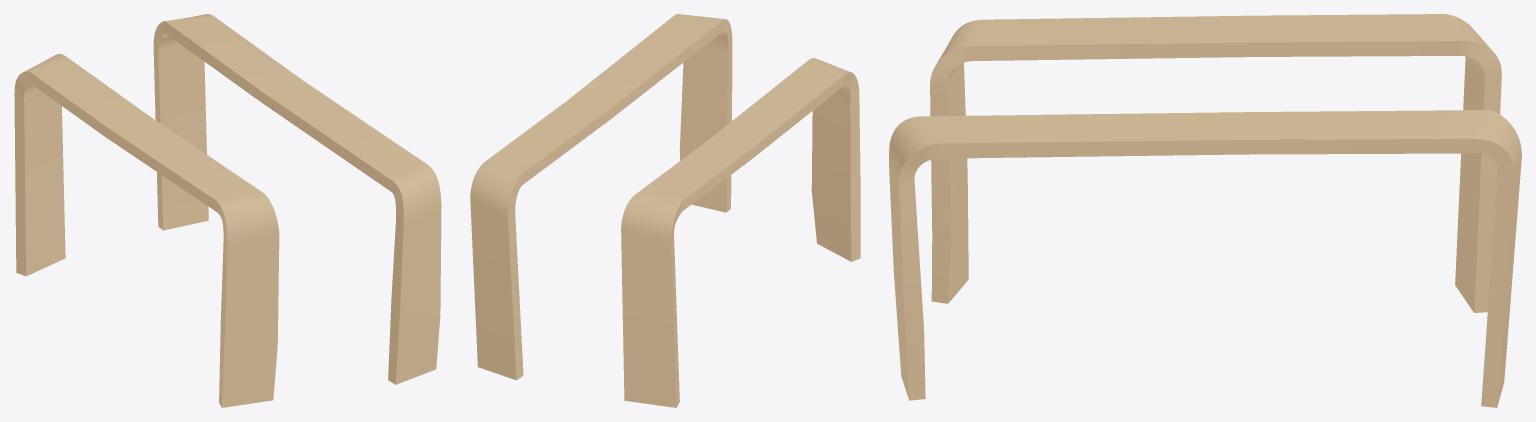
File: ROADS.fbx
The picture shows the model from 3 angles, left to right: view 1: azimuth 30°, elevation 25°; view 2: azimuth 150°, elevation 25°; view 3: azimuth 270°, elevation 25°; orthographic projection. The views are drawn at different scales.
Visible parts, largest first — view 1: Sweep_4, Sweep; view 2: Sweep_4, Sweep; view 3: Sweep, Sweep_4.
Part boxes in pixels (x1,y1,x2,y2): Sweep_4: (14,53,279,407); Sweep: (153,14,441,384); Sweep_4: (621,58,860,407); Sweep: (470,14,732,380); Sweep: (889,110,1521,407); Sweep_4: (930,14,1501,312).
Size of the model in its own units: 14532 by 13960 by 29277.
